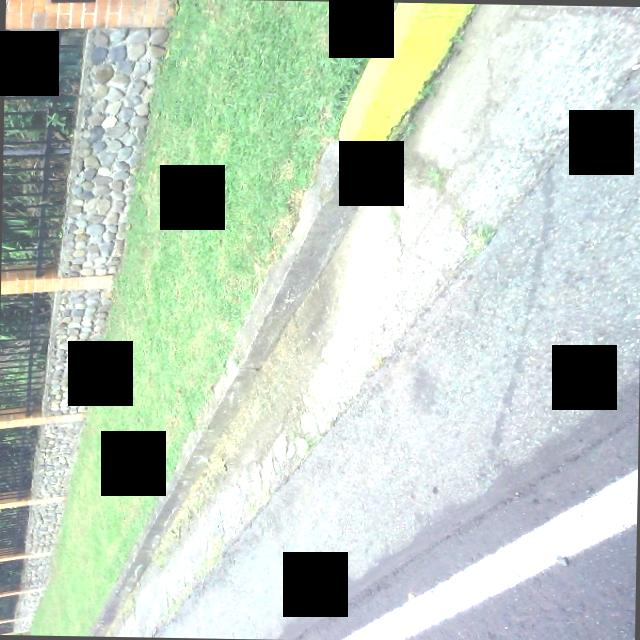DITCH: (0, 0, 640, 587), (93, 0, 640, 640)
